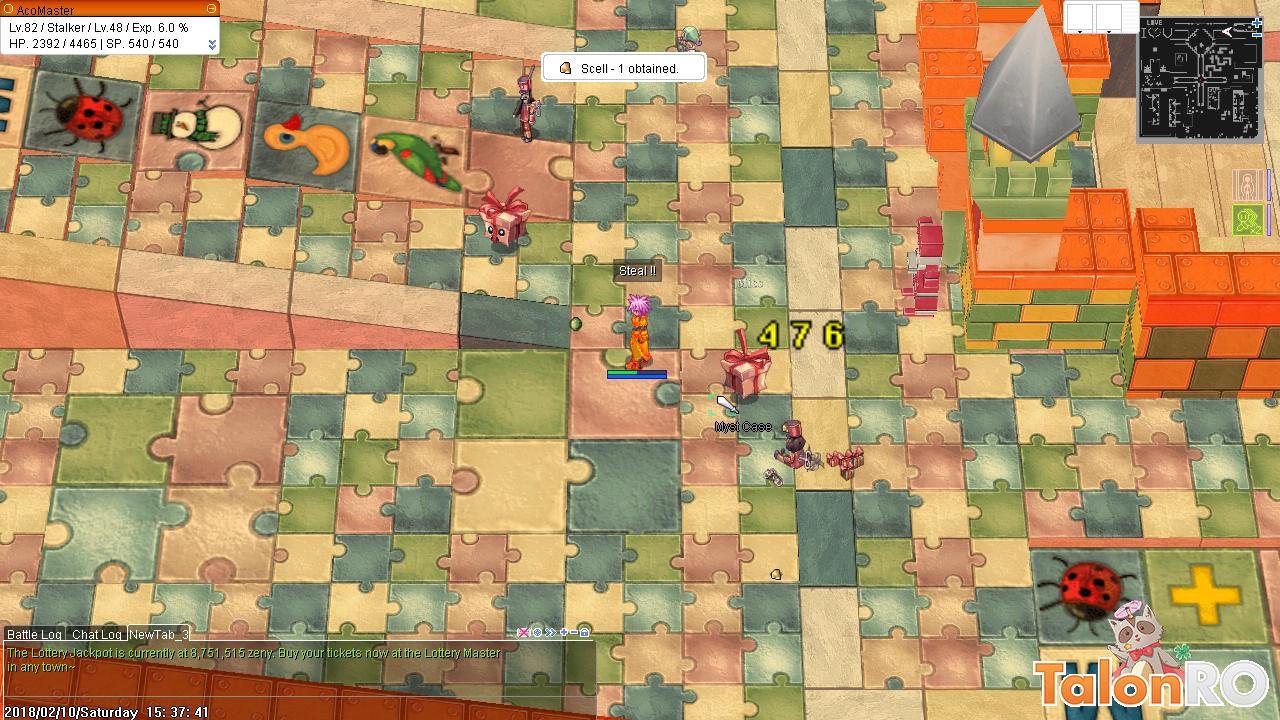loot: (763, 465, 786, 493), (766, 566, 786, 581)
mob: (511, 58, 544, 148)
myst_case: (716, 327, 778, 408), (473, 184, 534, 249)
